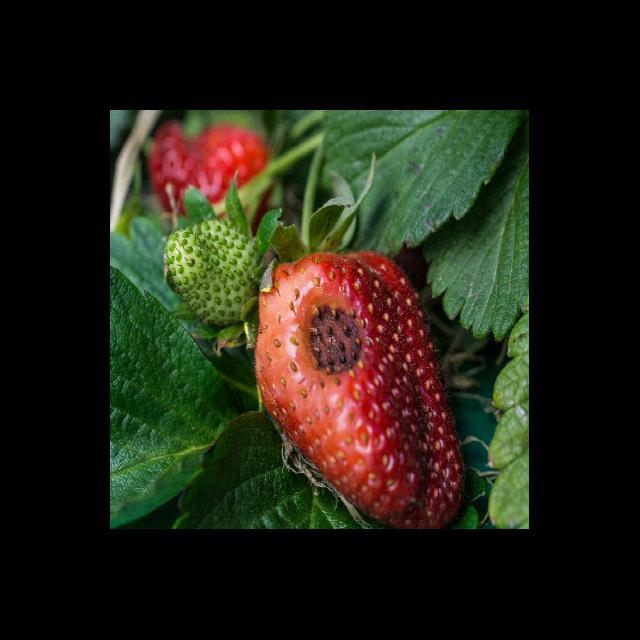Anthracnose Fruit Rot: (298, 304, 371, 382)
